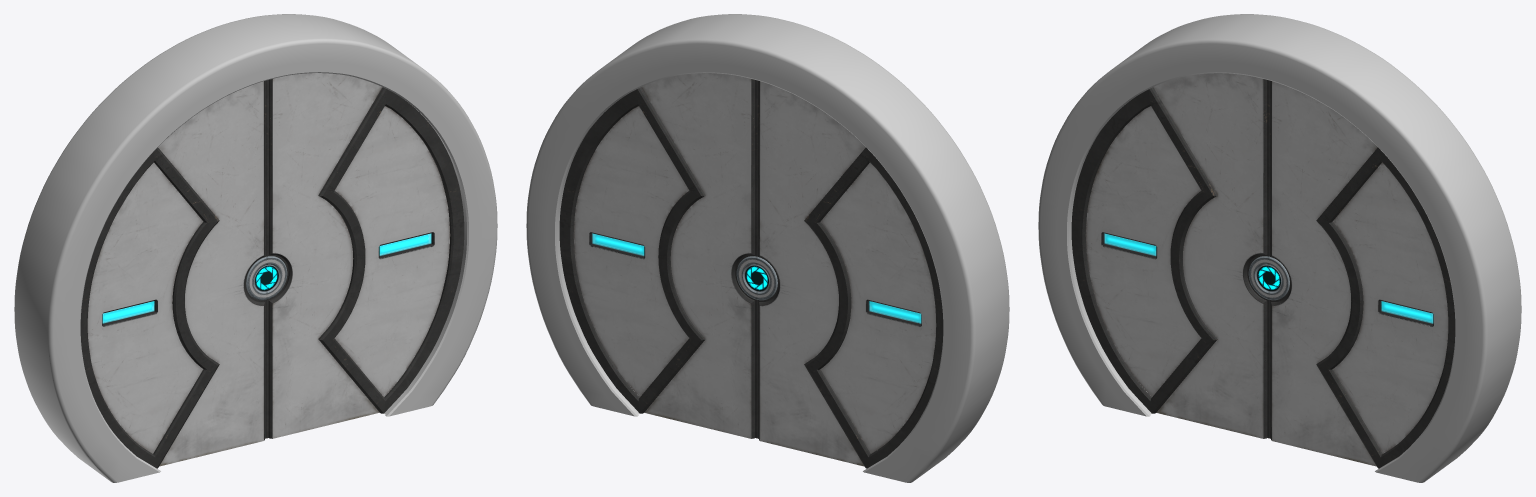
3 renders of one model, left to right at view 1: azimuth 30°, elevation 25°; view 2: azimuth 150°, elevation 25°; view 3: azimuth 330°, elevation 25°, orthographic.
Visible parts, largest first — view 1: Portal_Door_B_1, SM_Fixture_RoundFrame.001_2, Portal_Door_A_0; view 2: Portal_Door_B_1, SM_Fixture_RoundFrame.001_2, Portal_Door_A_0; view 3: Portal_Door_A_0, SM_Fixture_RoundFrame.001_2, Portal_Door_B_1.
Boxes of the visible parts, x1,y1,x2,y2 form: Portal_Door_B_1: (266,73,464,438); SM_Fixture_RoundFrame.001_2: (14,14,497,482); Portal_Door_A_0: (80,80,267,468); Portal_Door_B_1: (559,73,757,438); SM_Fixture_RoundFrame.001_2: (526,14,1009,482); Portal_Door_A_0: (756,80,943,468); Portal_Door_A_0: (1071,73,1269,438); SM_Fixture_RoundFrame.001_2: (1038,14,1521,482); Portal_Door_B_1: (1268,80,1455,468).
Bounding box in the file's own units: 2.47 × 2.1 × 0.3554.
